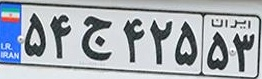character: (76, 11, 117, 65), (48, 8, 75, 60), (173, 17, 199, 69), (149, 13, 173, 68), (119, 16, 146, 64), (23, 9, 47, 60), (231, 29, 257, 72), (206, 29, 230, 72)
